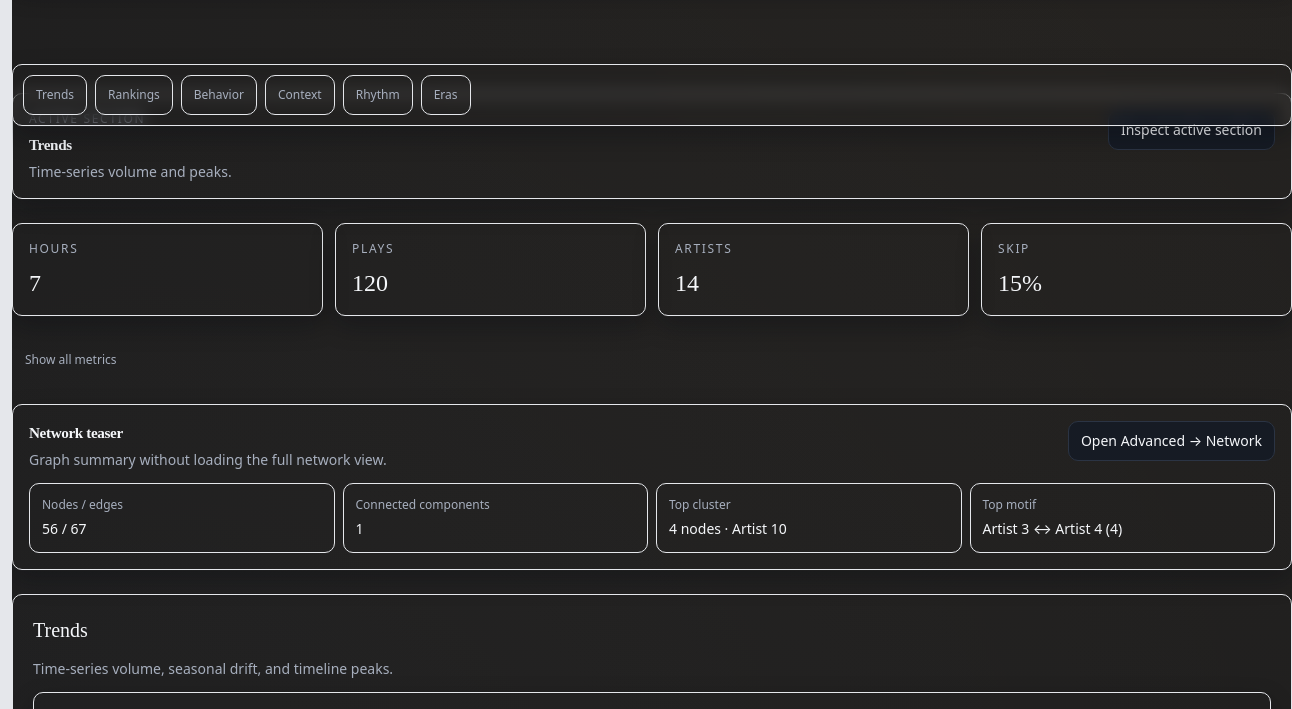
Test case: ExploreDashboard › uses progressive disclosure for hero metrics with accessible expansion state
(page scrolled)
expect the text "Graph nodes" is not shown: met
Click the button "Show all metrics" at (71, 360), box [12,340,130,380]
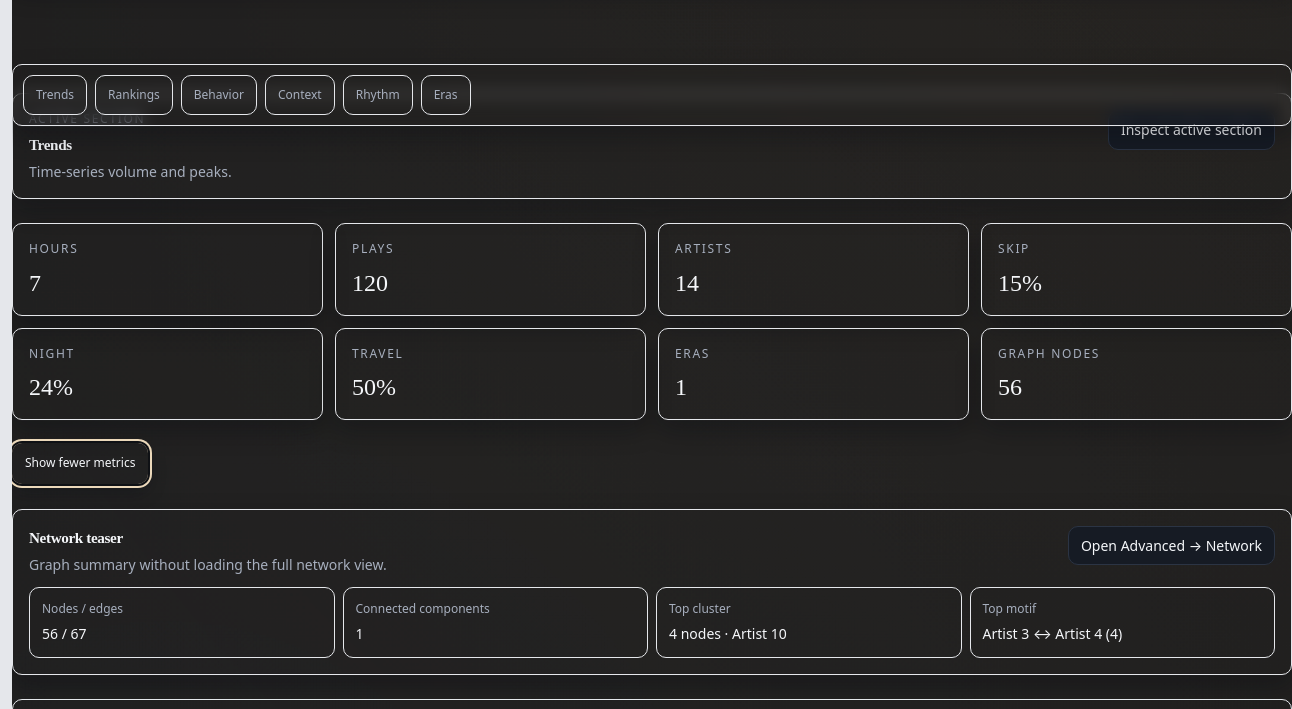
expect the button "Show fewer metrics" is expanded: met
expect the text "Graph nodes" is shown: met, box [998,345,1100,362]
Click the button "Show fewer metrics" at (80, 464), box [12,443,148,484]
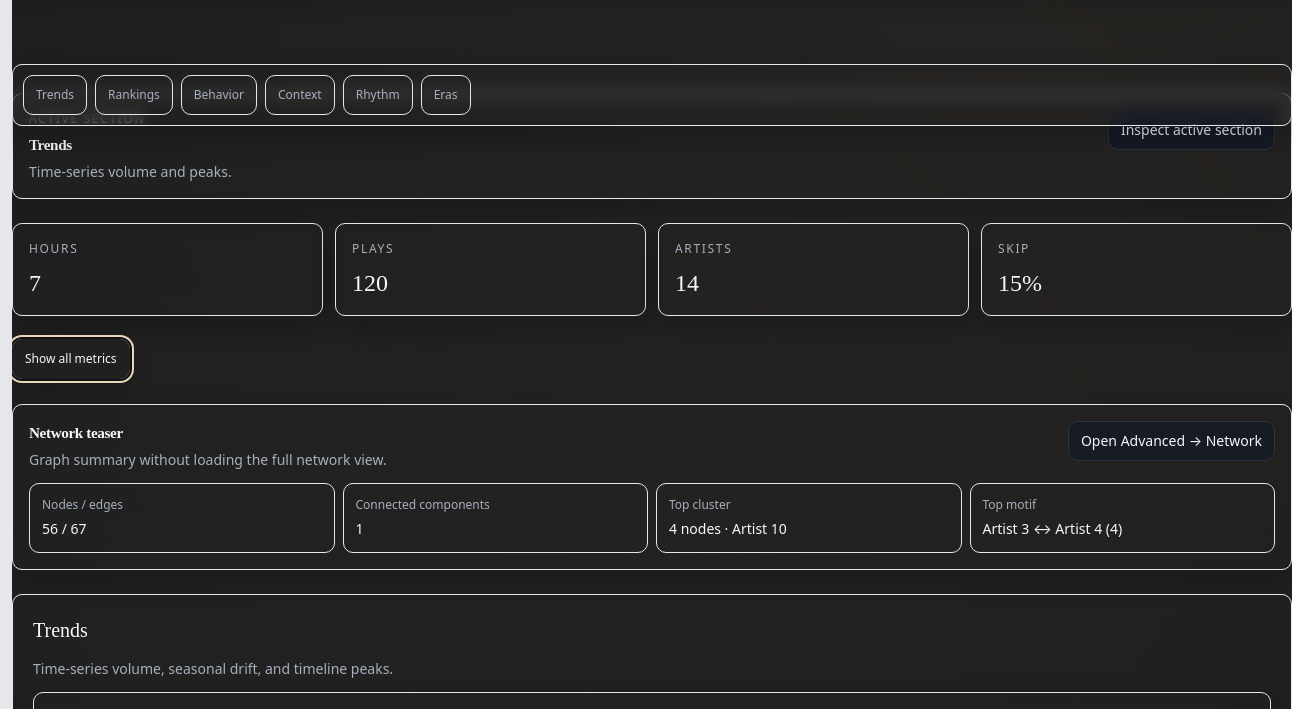
expect the button "Show all metrics" is collapsed: met, box [12,339,130,379]
